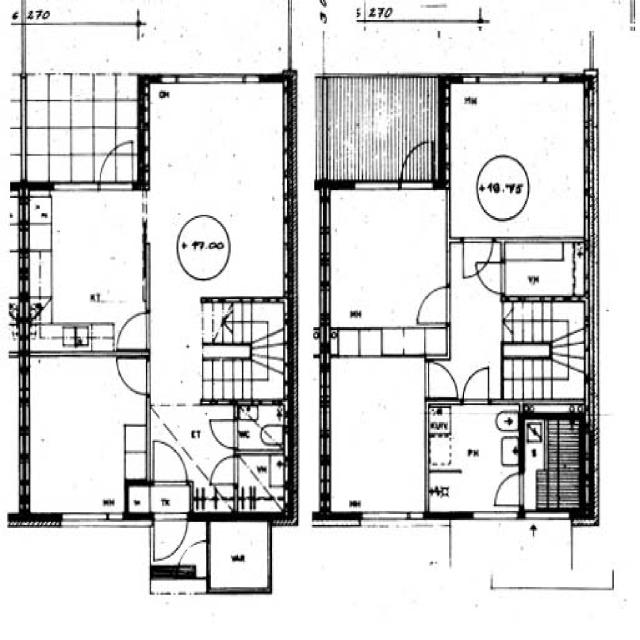door: (461, 235, 504, 293), (96, 143, 135, 191), (413, 283, 452, 329), (151, 514, 188, 562), (151, 438, 186, 484), (457, 361, 493, 405), (423, 358, 458, 401), (115, 355, 151, 396), (473, 256, 508, 298), (115, 311, 150, 352), (490, 471, 524, 508), (400, 144, 429, 186), (207, 416, 238, 451), (179, 538, 209, 573), (209, 455, 237, 487)
window: (357, 507, 418, 529), (58, 509, 120, 529), (352, 176, 399, 195), (52, 180, 100, 198), (467, 508, 518, 524), (459, 74, 480, 86), (475, 1, 486, 12)
zone: (146, 79, 292, 317), (446, 80, 592, 236), (22, 352, 144, 520), (22, 188, 148, 350), (324, 328, 428, 519), (322, 188, 449, 332), (426, 404, 521, 515), (523, 411, 583, 512), (501, 241, 584, 302), (207, 518, 270, 594), (234, 453, 289, 512), (236, 402, 286, 452)
